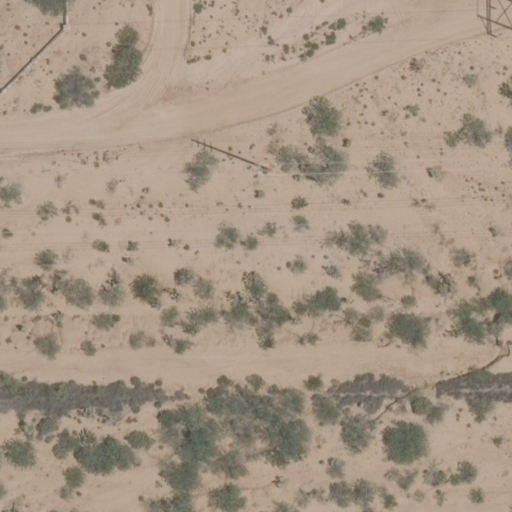DT: (185, 138, 268, 172)
